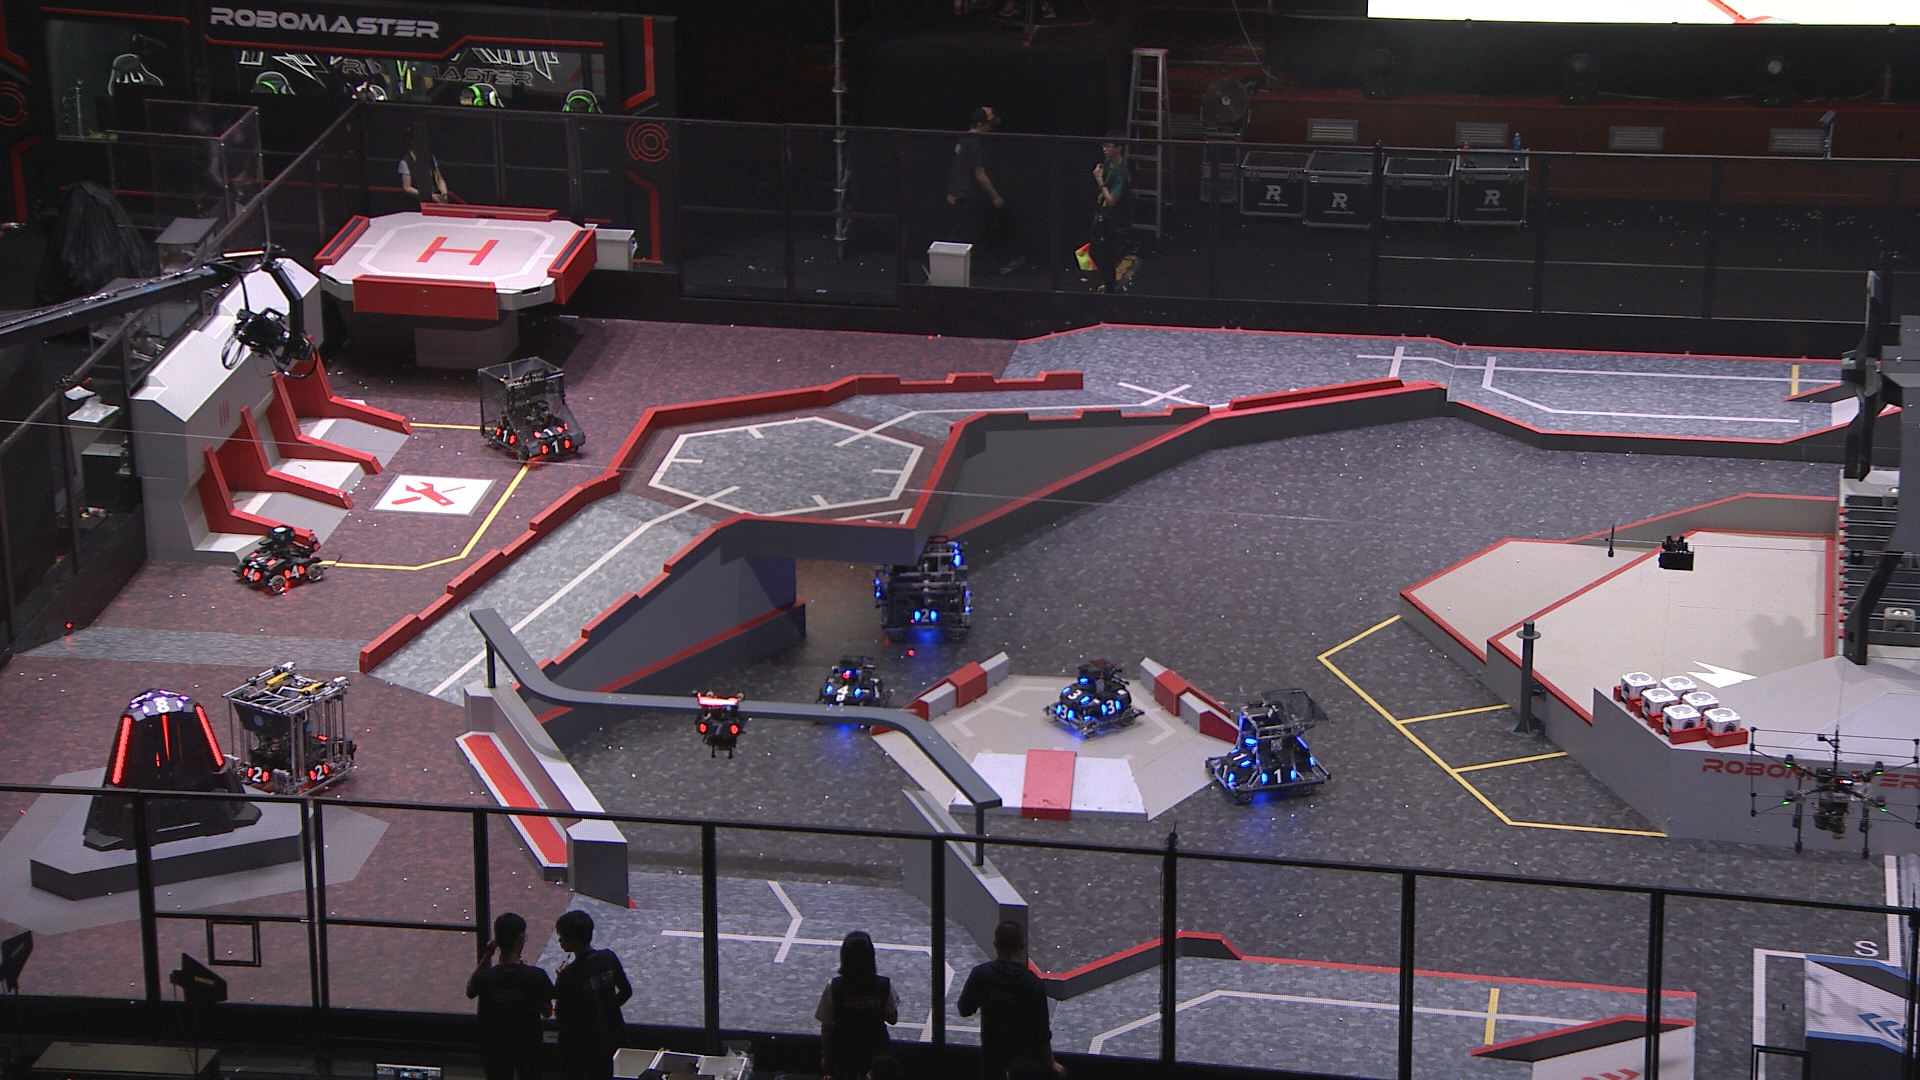armor: (195, 703, 224, 765), (111, 713, 133, 783), (699, 719, 738, 737), (1261, 766, 1295, 785), (541, 439, 572, 456), (243, 765, 272, 783), (913, 607, 939, 626), (825, 684, 860, 699), (237, 566, 262, 585), (249, 550, 276, 568), (161, 713, 171, 760), (531, 425, 564, 439), (1228, 746, 1250, 767), (1215, 764, 1237, 785), (868, 680, 887, 704), (281, 564, 306, 582), (309, 764, 328, 785), (1055, 703, 1073, 723), (496, 427, 516, 446), (1100, 699, 1124, 713), (1060, 688, 1088, 700), (872, 583, 884, 603)
base: (78, 688, 261, 851)
car: (224, 657, 357, 802), (1207, 684, 1335, 802), (477, 353, 588, 463), (869, 531, 975, 641), (1040, 655, 1143, 742), (229, 524, 324, 593), (814, 650, 891, 731)
ignore: (140, 695, 182, 716)
watcher: (690, 688, 745, 757)
